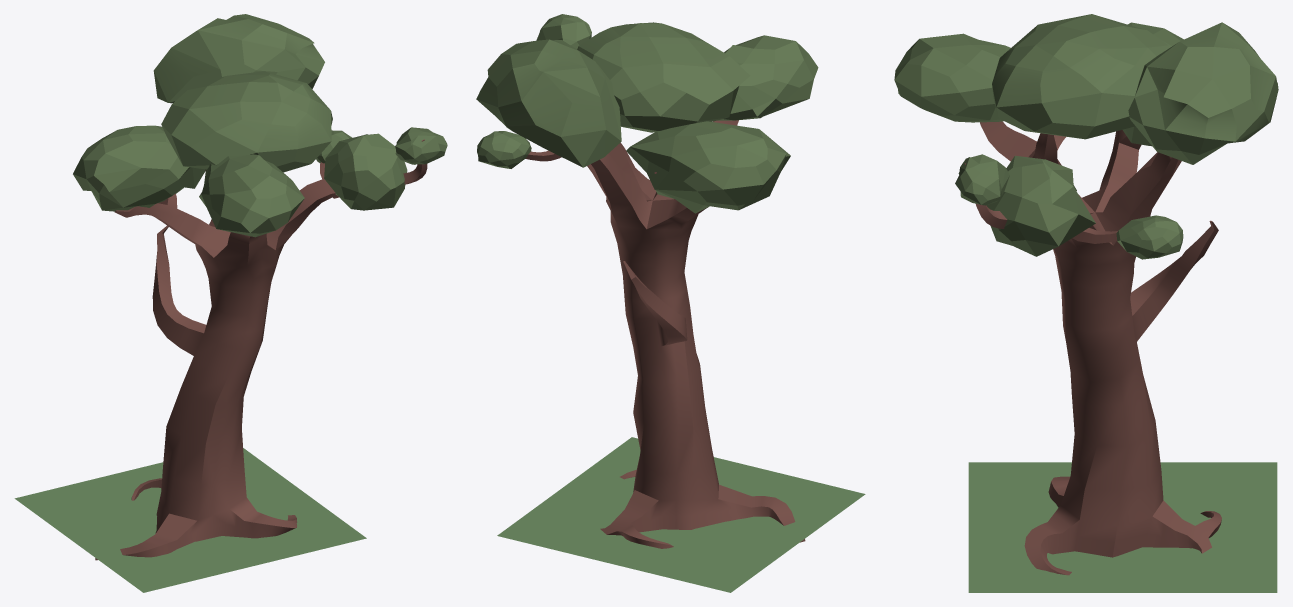
The model's file is tree1.fbx.
3 renders of one model, left to right at view 1: azimuth 30°, elevation 25°; view 2: azimuth 150°, elevation 25°; view 3: azimuth 270°, elevation 25°, orthographic. The views are drawn at different scales.
Parts seen in each view (by area): view 1: Live_tree_comp_tile_1; view 2: Live_tree_comp_tile_1; view 3: Live_tree_comp_tile_1.
Part boxes in pixels (<box>): Live_tree_comp_tile_1: <box>14,14,447,592</box>; Live_tree_comp_tile_1: <box>476,14,865,592</box>; Live_tree_comp_tile_1: <box>894,14,1278,592</box>.
Size of the model in its own units: 2.74 by 3.91 by 2.49.
